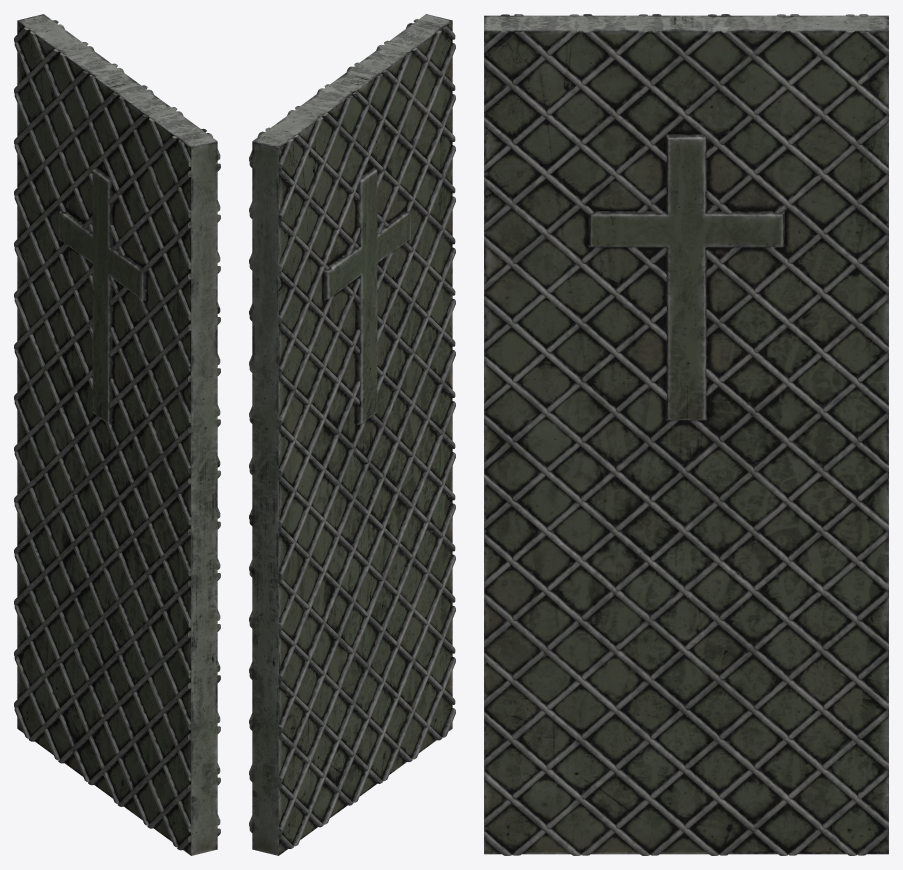
Rendered from SM_MDoorD.fbx.
3 views of the same model, side by side, from view 1: azimuth 30°, elevation 25°; view 2: azimuth 150°, elevation 25°; view 3: azimuth 270°, elevation 25° (orthographic). The views are drawn at different scales.
Parts seen in each view (by area): view 1: SM_MDoorD_LOD0; view 2: SM_MDoorD_LOD0; view 3: SM_MDoorD_LOD0.
Part boxes in pixels (x1,y1,x2,y2): SM_MDoorD_LOD0: [14, 14, 220, 855]; SM_MDoorD_LOD0: [249, 14, 455, 855]; SM_MDoorD_LOD0: [484, 14, 888, 855].
Size of the model in its own units: 10.95 by 94.97 by 213.
1 material, 1 textured.
